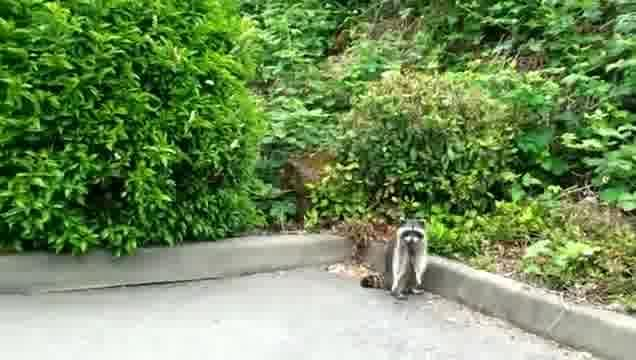raccoon: (358, 217, 435, 302)
